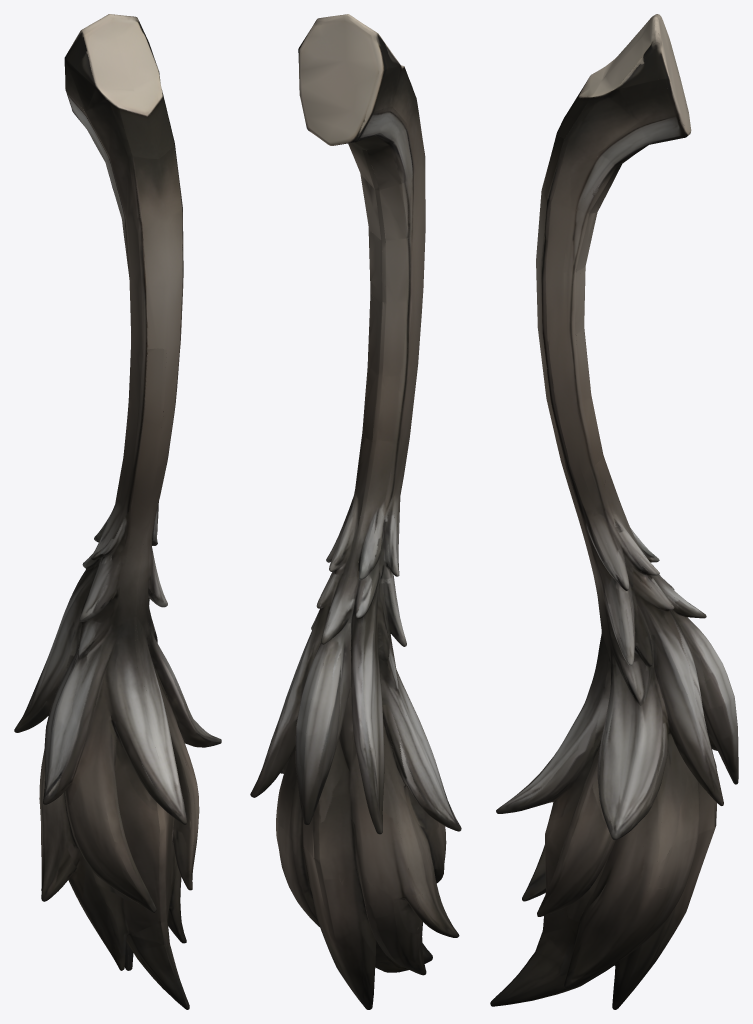
File: niuwei_game.glb
3 renders of one model, left to right at view 1: azimuth 30°, elevation 25°; view 2: azimuth 150°, elevation 25°; view 3: azimuth 270°, elevation 25°, orthographic. The views are drawn at different scales.
Visible parts, largest first — view 1: node_0; view 2: node_0; view 3: node_0.
Part boxes in pixels (<box>): node_0: <box>14,14,221,1009</box>; node_0: <box>250,14,461,1009</box>; node_0: <box>490,14,738,1009</box>.
Size of the model in its own units: 0.2333 by 1.18 by 0.2667.
Materials: 1 (1 with a texture image).
